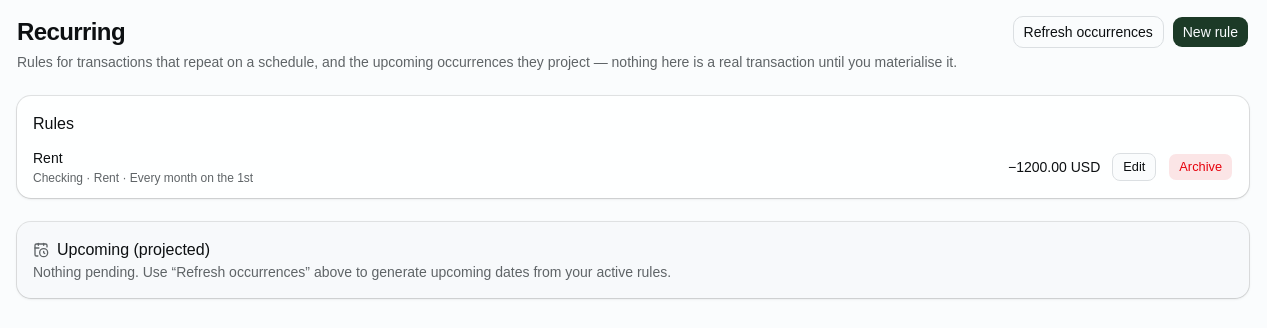
Test: RecurringPage › archives a rule
This screenshot has width=1267, height=328.
Expected: the text "Rent" is shown, [33,150,63,166]
Step 1. Click the button "Archive" → [1201, 167], box [1168,153,1233,181]
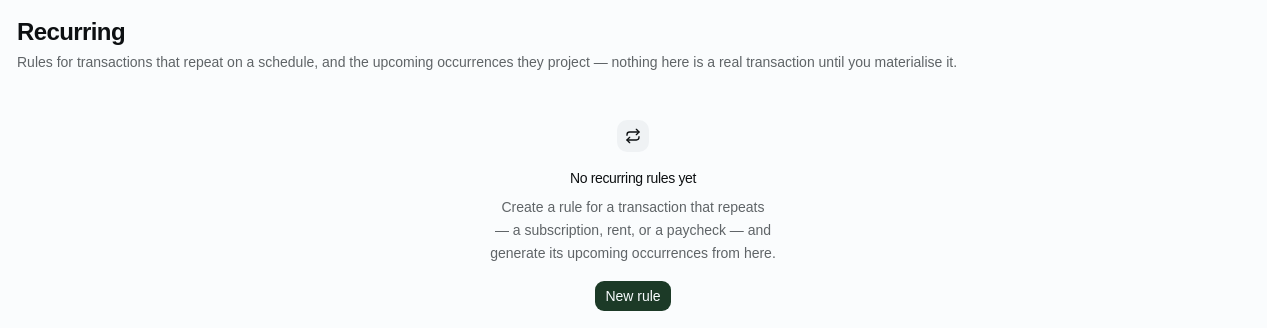
Now the text "No recurring rules yet" is shown, box [570,168,696,188]
